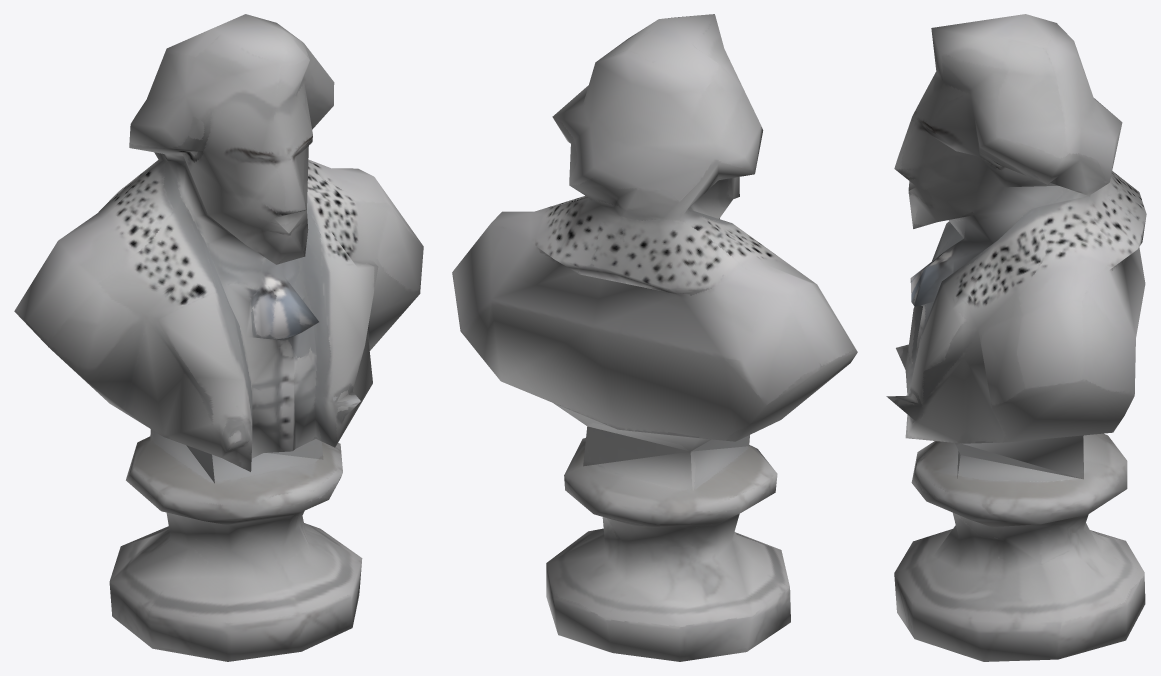
File: marble-bust.glb
3 renders of one model, left to right at view 1: azimuth 30°, elevation 25°; view 2: azimuth 150°, elevation 25°; view 3: azimuth 270°, elevation 25°, orthographic. The views are drawn at different scales.
Visible parts, largest first — view 1: geometry_0.001; view 2: geometry_0.001; view 3: geometry_0.001.
Part boxes in pixels (x1=…): geometry_0.001: x1=14, y1=14, x2=423, y2=661; geometry_0.001: x1=452, y1=14, x2=857, y2=661; geometry_0.001: x1=886, y1=14, x2=1146, y2=661.
Bounding box in the file's own units: 0.6839 × 0.9978 × 0.4008.
1 material, 1 textured.
